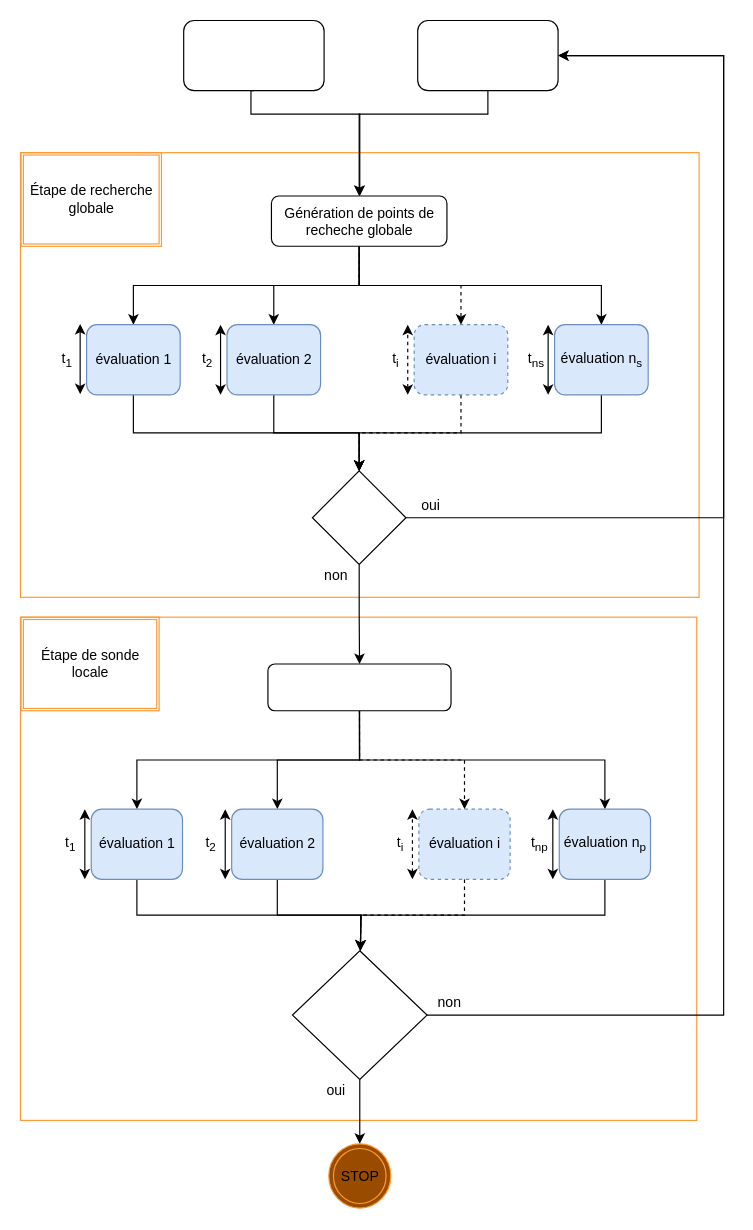
This 753x1230 diagram has some shape labels left out. The box of each missing label's shape, as (x1, y1, x2, y2) in pixels:
Critère de convergence satisfaite ?: (291, 950, 427, 1079)
Génération de points de sonde locale: (267, 663, 451, 711)
Initialisation des paramètres: (183, 19, 324, 91)
Mise à jour des paramètres: (417, 19, 558, 91)
Succès trouvé ?: (311, 470, 406, 565)
